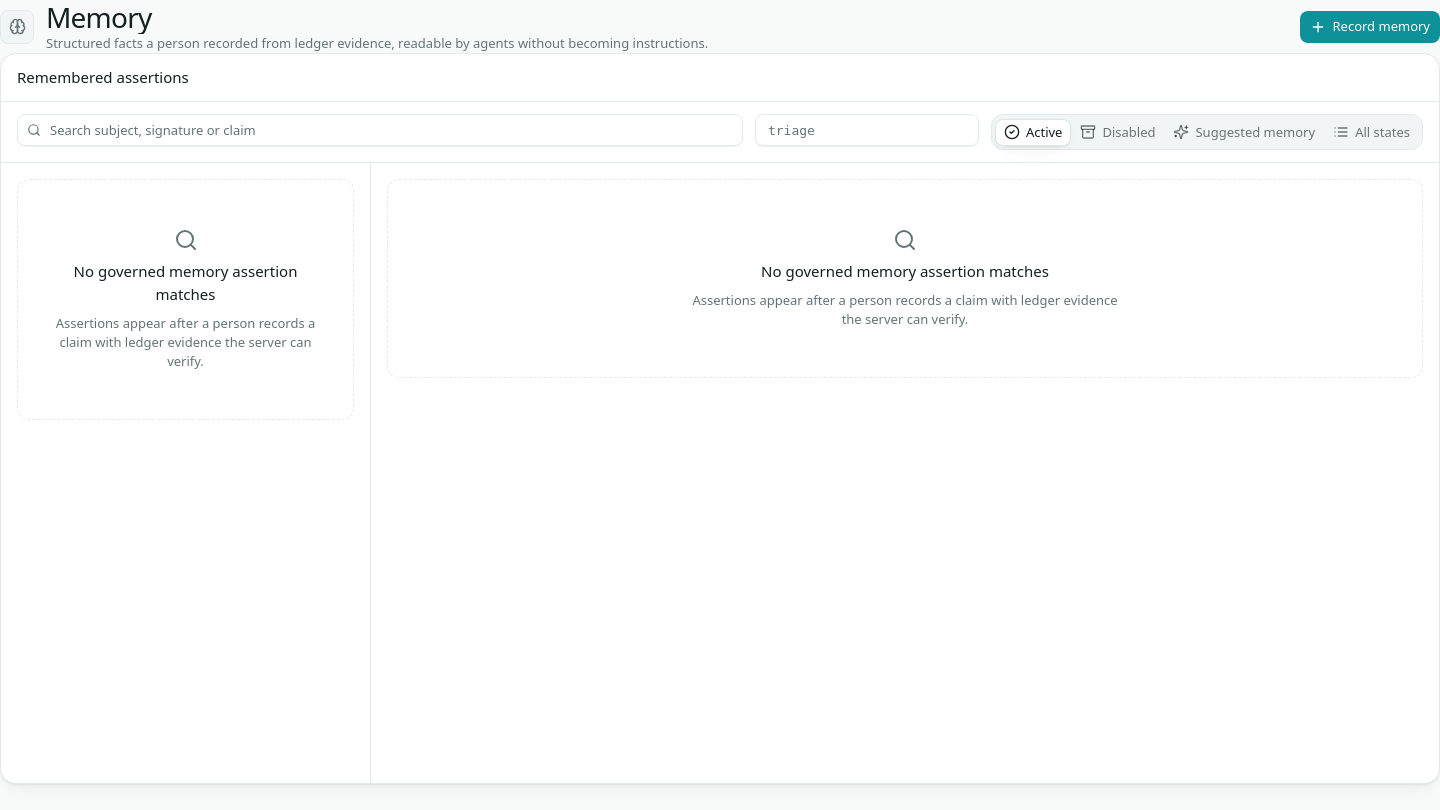
Test case: governed memory page › discards an untouched creation panel when it is closed
This screenshot has width=1440, height=810.
Click the button "Record memory".
click(1370, 26)  # box top-left (1300, 10), bottom-right (1439, 42)
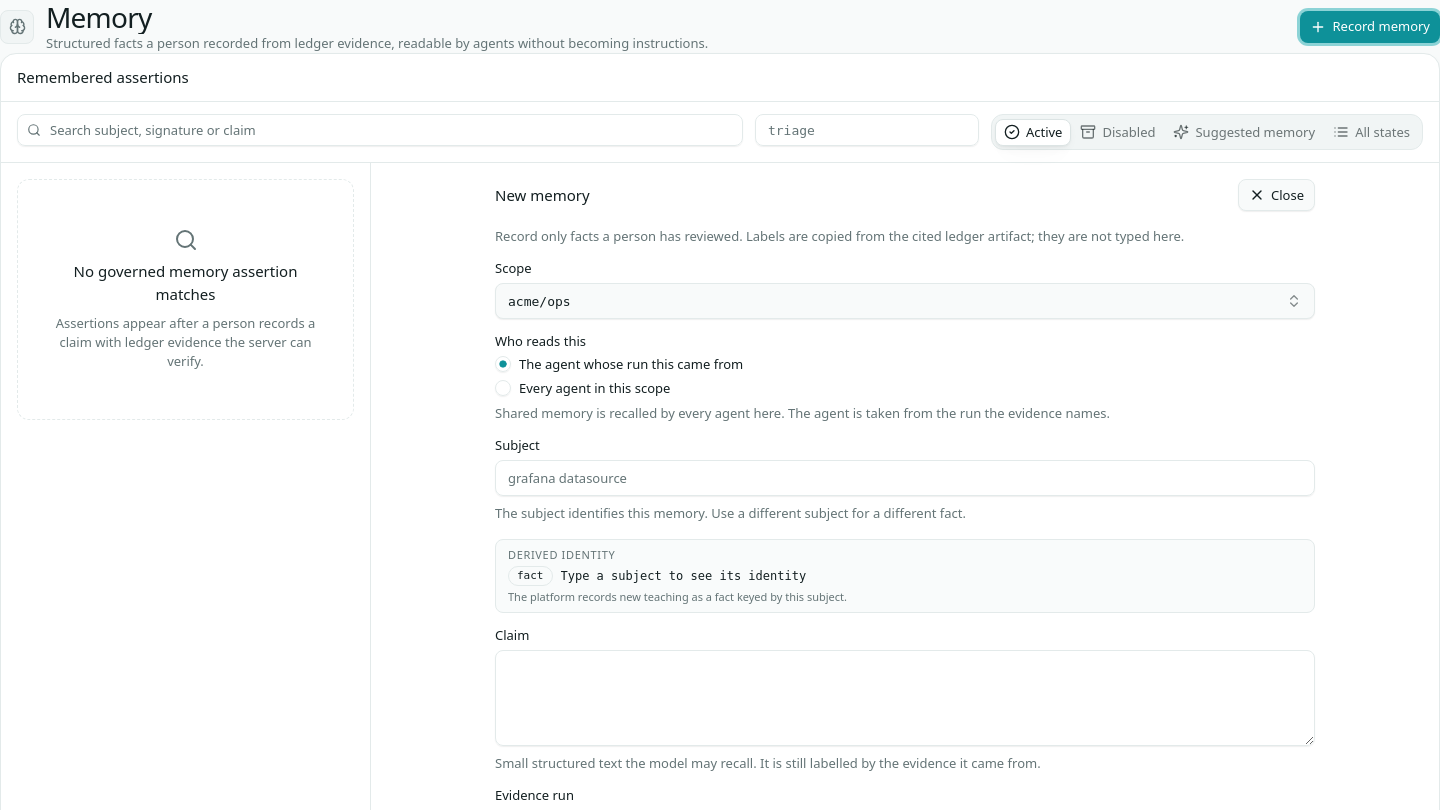
Click the button "Close".
click(1276, 195)  # box top-left (1238, 179), bottom-right (1315, 211)
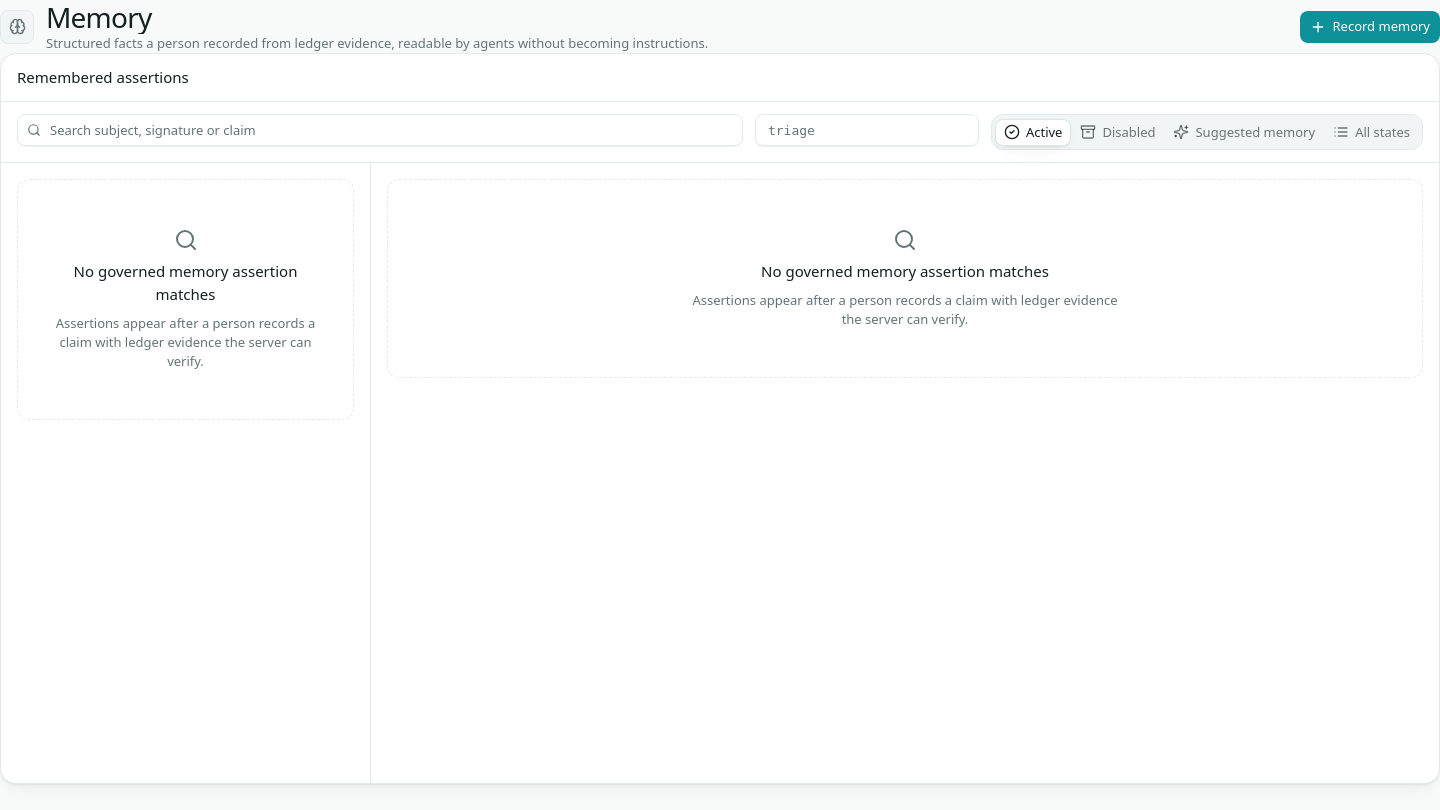
Expected: the button "Record memory" is shown, top-left (1300, 10), bottom-right (1439, 42)
Result: the heading "New memory" is gone
